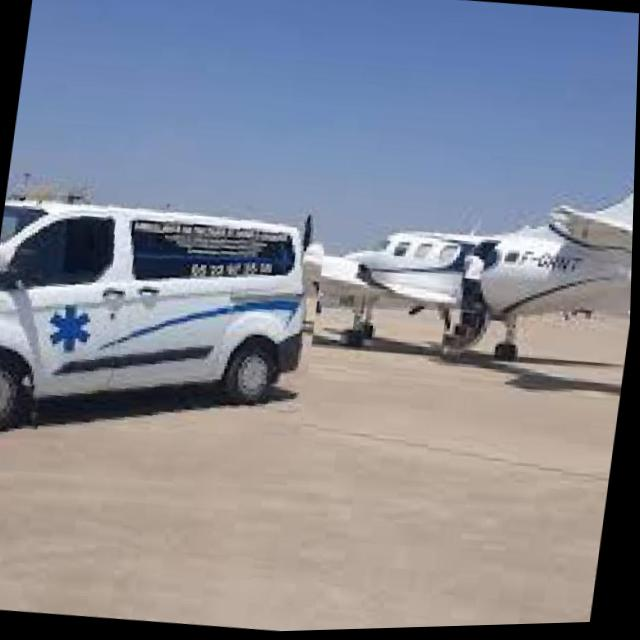ambulance: (0, 171, 332, 469)
